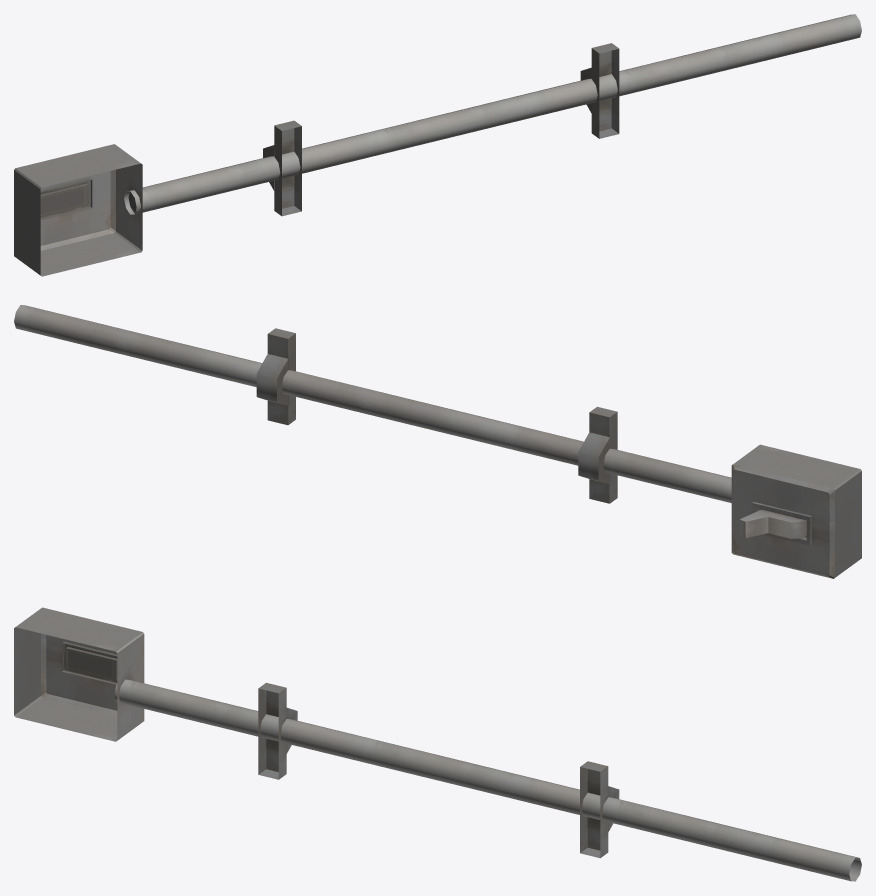
The model's file is props_farm_conduit02.glb.
The picture shows the model from 3 angles, top to bottom: view 1: azimuth 30°, elevation 25°; view 2: azimuth 150°, elevation 25°; view 3: azimuth 330°, elevation 25°; orthographic projection.
Parts seen in each view (by area): view 1: models/props_farm/conduit02; view 2: models/props_farm/conduit02; view 3: models/props_farm/conduit02.
Boxes of the visible parts, x1=… form: models/props_farm/conduit02: x1=14, y1=14, x2=861, y2=276; models/props_farm/conduit02: x1=14, y1=305, x2=861, y2=578; models/props_farm/conduit02: x1=14, y1=607, x2=861, y2=881.
Bounding box in the file's own units: 90.84 × 9.39 × 8.51.
1 material, 1 textured.
